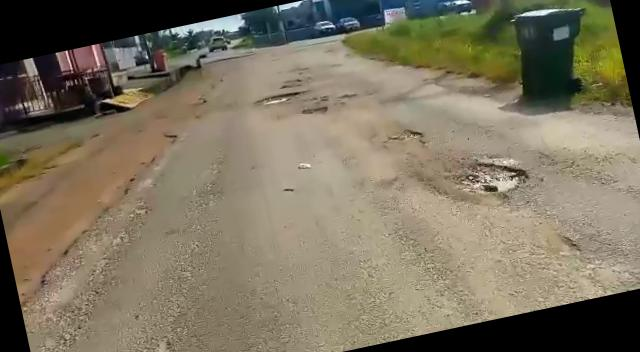pothole: (444, 147, 534, 210), (382, 125, 424, 150), (257, 87, 305, 107), (300, 103, 330, 119)
